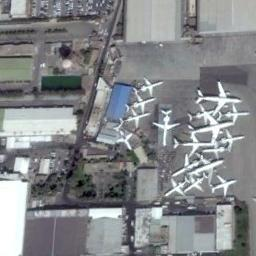Airplane: (194, 83, 244, 113), (187, 114, 236, 141), (182, 153, 228, 180), (154, 106, 178, 150), (173, 135, 216, 156), (207, 131, 247, 151), (218, 105, 255, 126), (210, 172, 242, 196), (184, 169, 211, 196), (187, 104, 218, 126), (112, 125, 137, 151), (136, 74, 166, 94), (120, 112, 154, 128), (164, 178, 190, 198), (133, 94, 156, 112)
